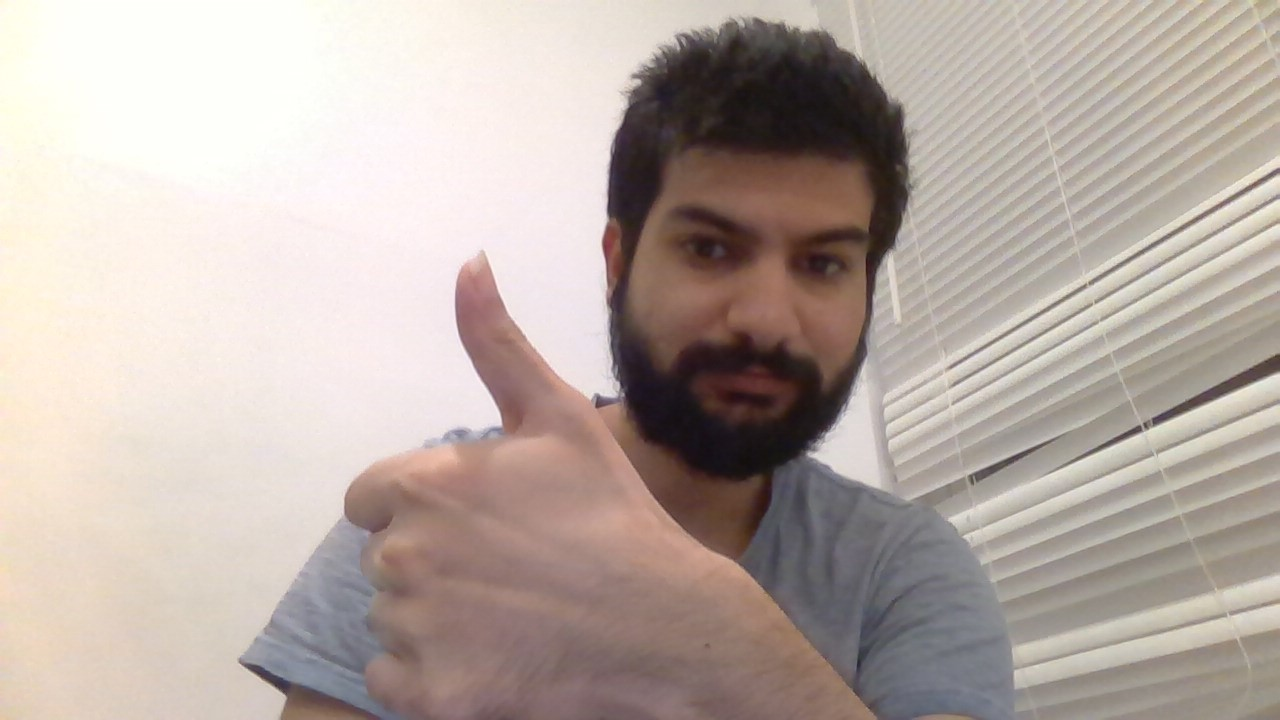up: (337, 235, 630, 720)
